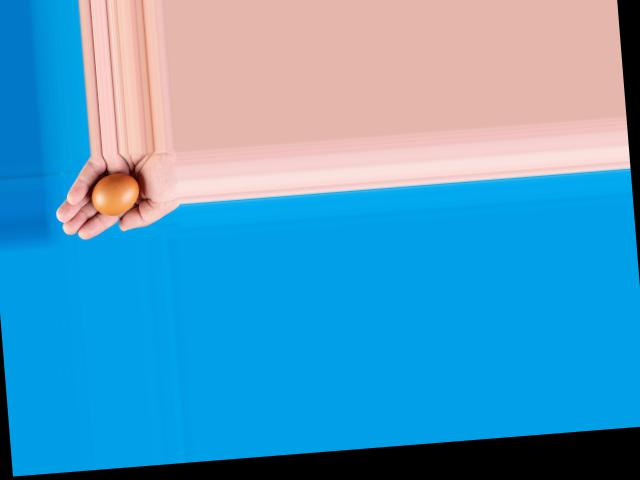egg: (88, 172, 140, 216)
